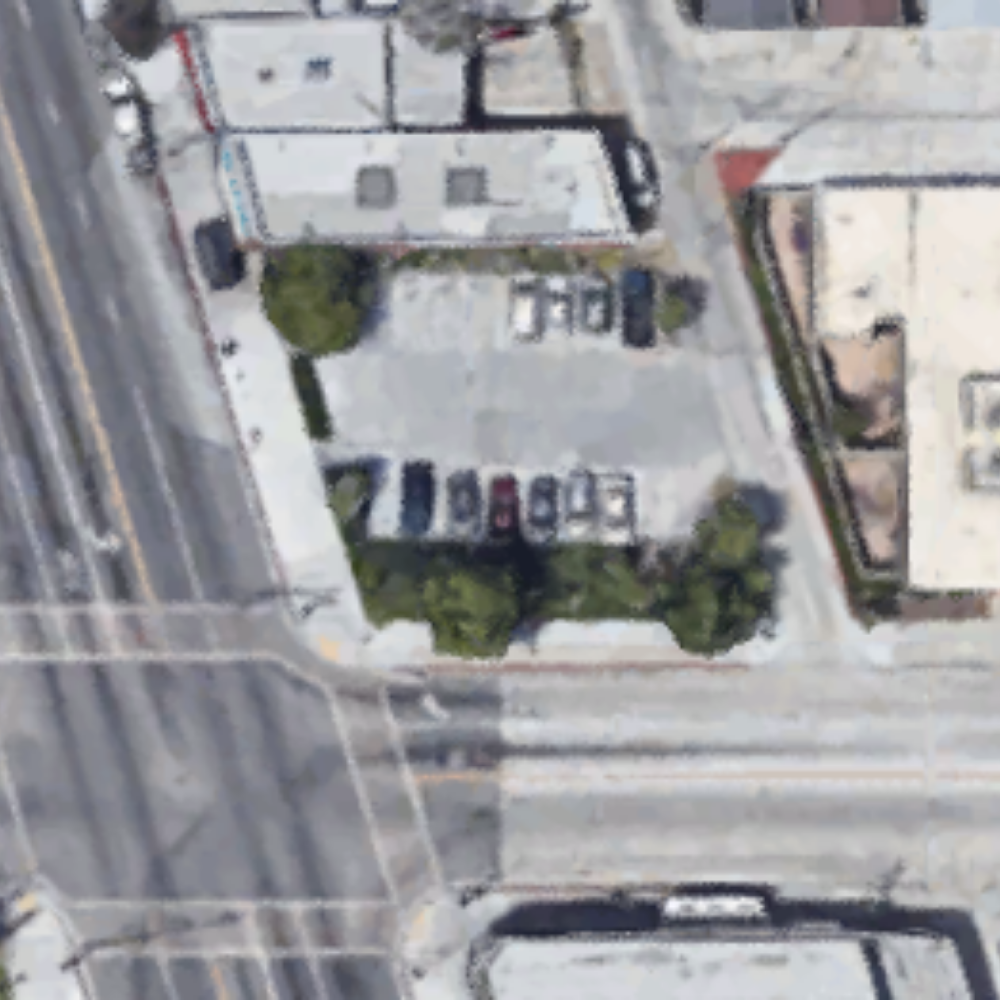parking: (270, 270, 745, 545)
